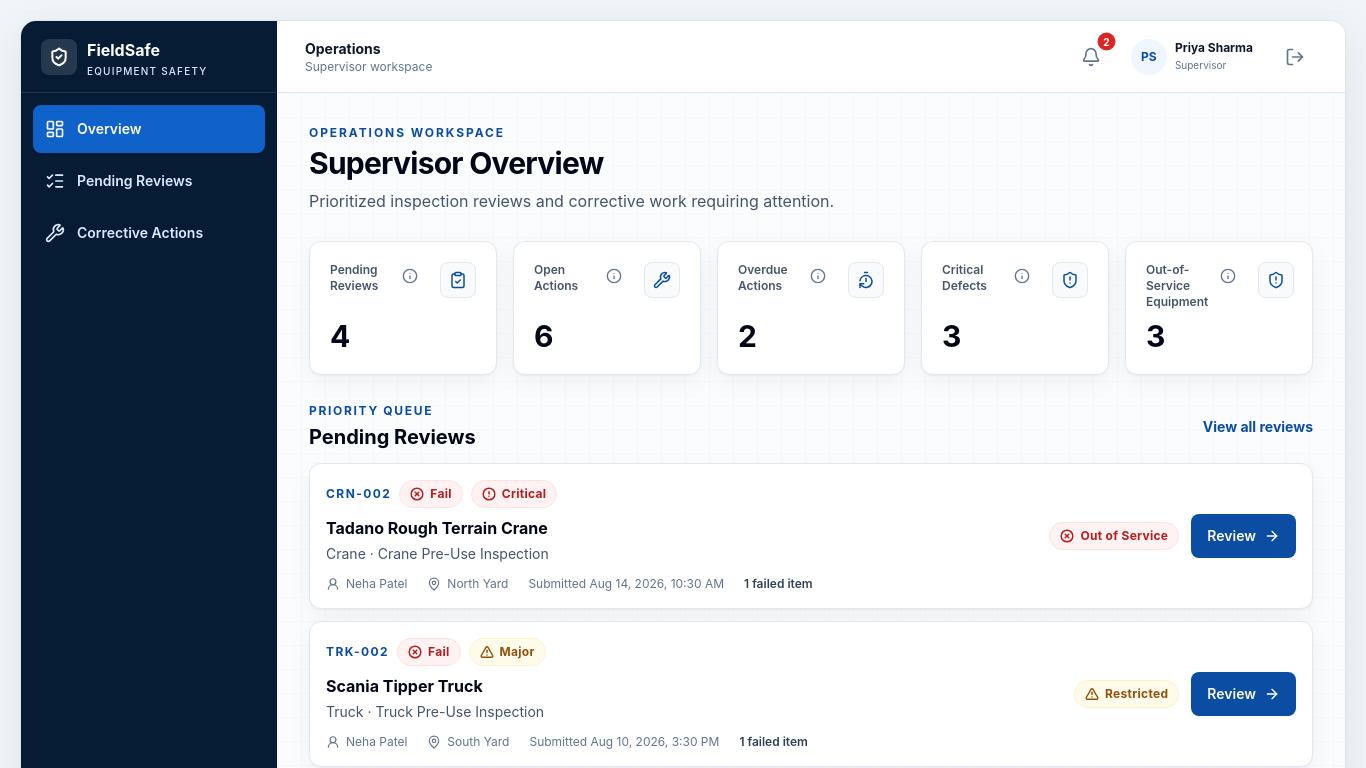
Scenario: authentication routing › reconstructs a session on refresh and logout returns to login
This screenshot has width=1366, height=768.
Expected: the heading "Supervisor Overview" is shown, x1=309 y1=145 x2=603 y2=181
Click the button named "Log out". click: (1295, 56)
box: x1=1273 y1=34 x2=1317 y2=78
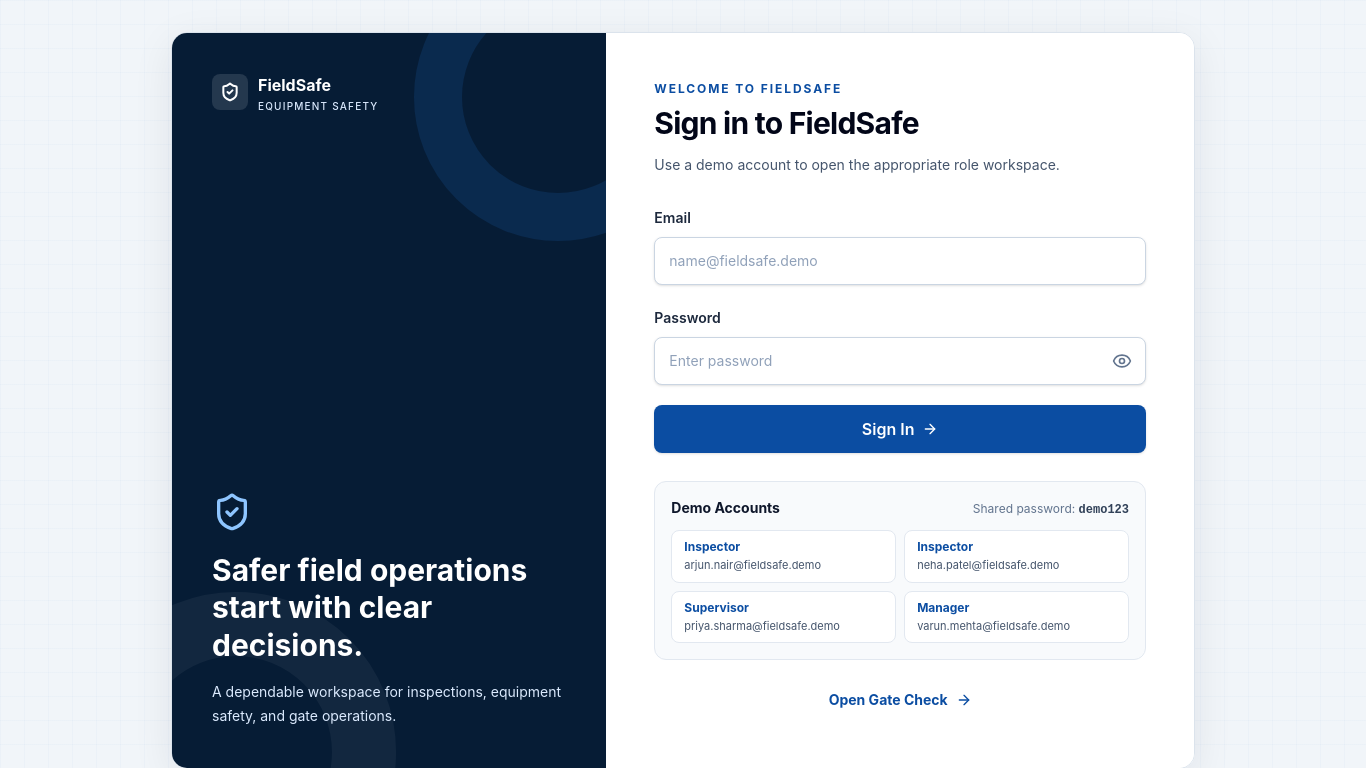
Result: the heading "Sign in to FieldSafe" is shown at x1=654 y1=105 x2=919 y2=141
